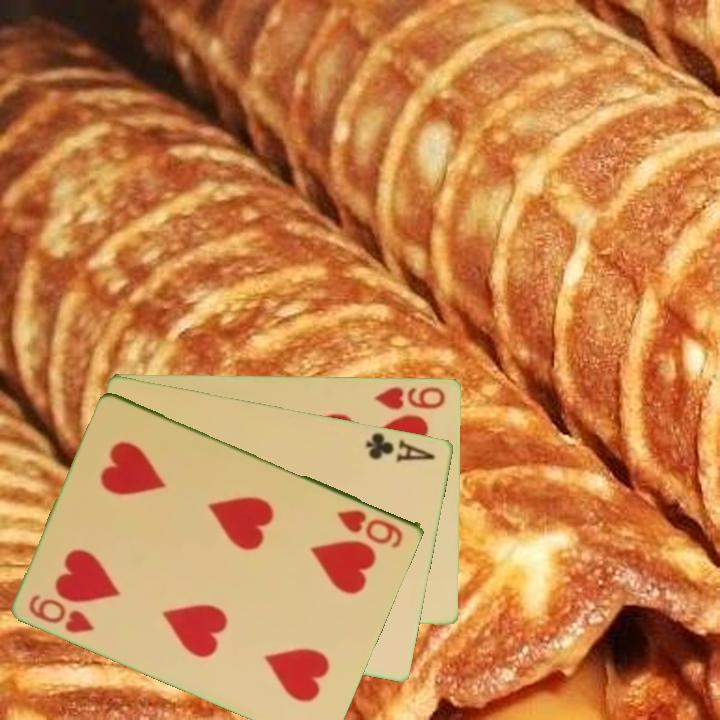6h: (334, 505, 407, 551), (25, 590, 97, 636)
9h: (371, 383, 448, 412)
Ac: (363, 428, 439, 465)
